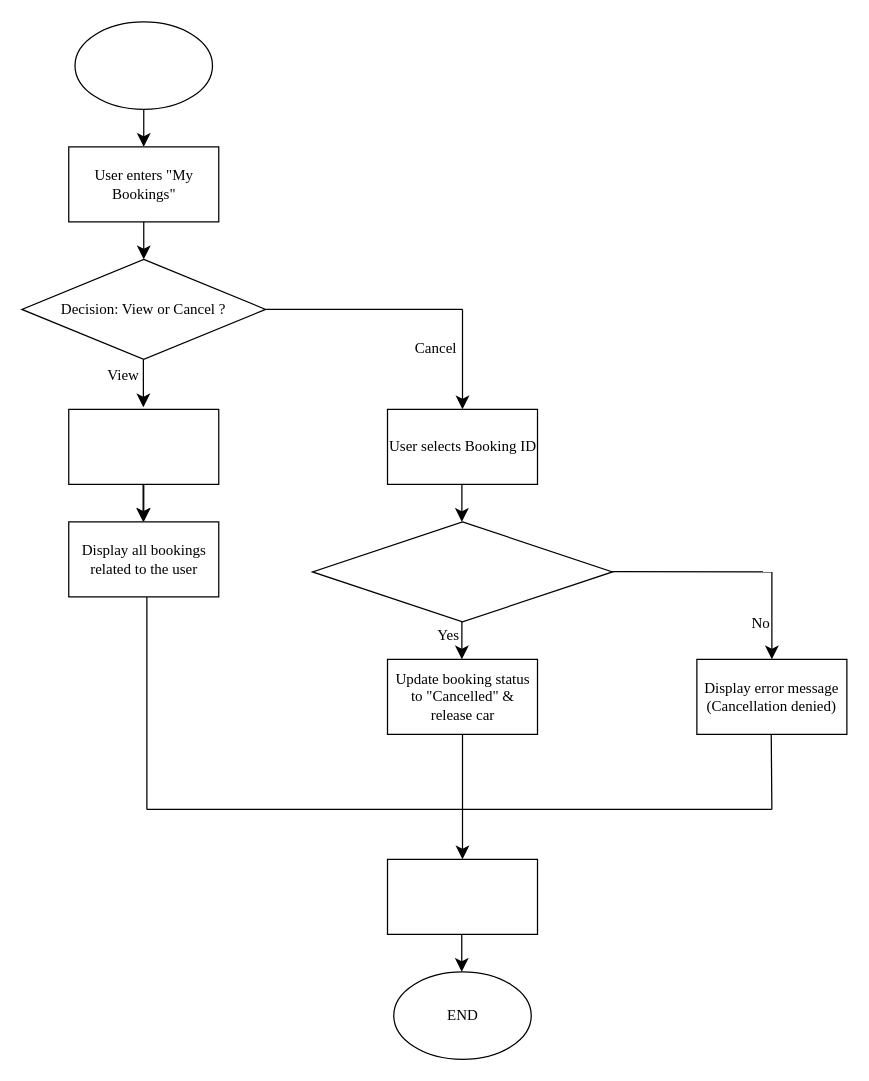
Some shapes in this 869 by 1081 pixel diagram are drawn without their labels. The box of each missing label's shape, as (x1, y1, x2, y2) in pixels:
Decision: Eligible for Cancellation ?: (311, 521, 612, 622)
Return to Dashboard: (386, 858, 538, 934)
START: (74, 21, 212, 109)
System queries database using User ID: (68, 408, 219, 484)
